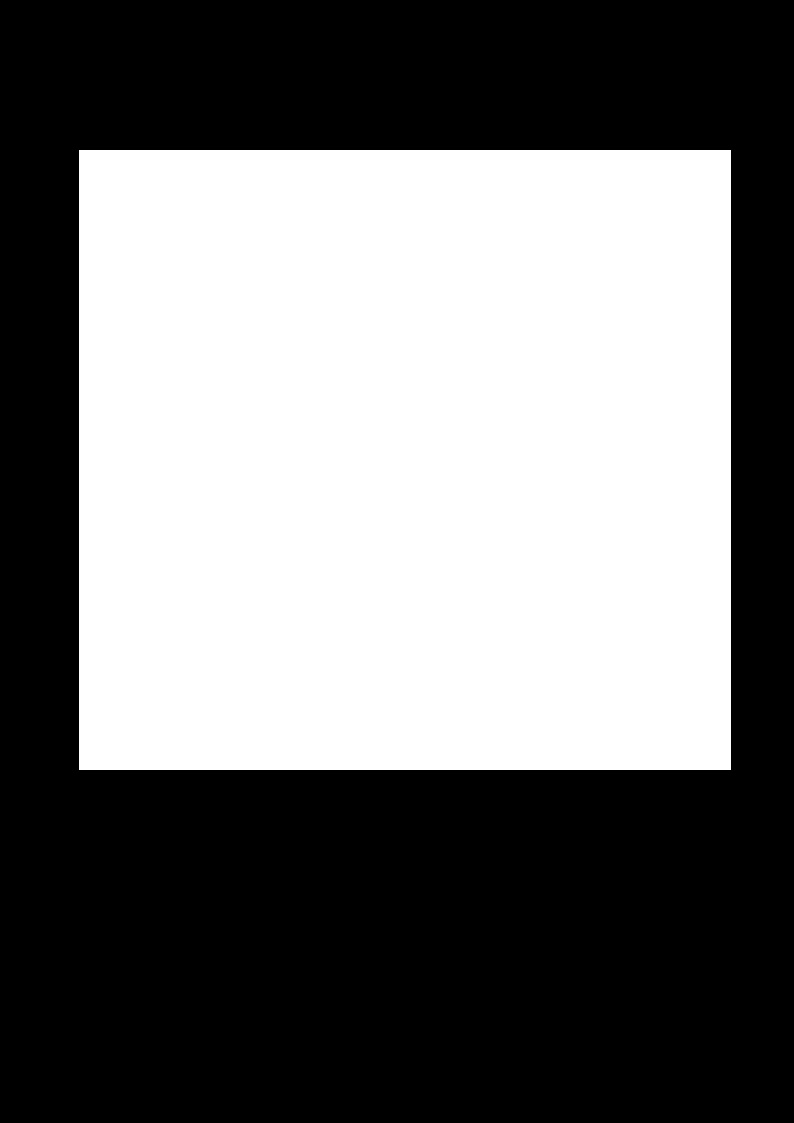table: (79, 150, 730, 769)
